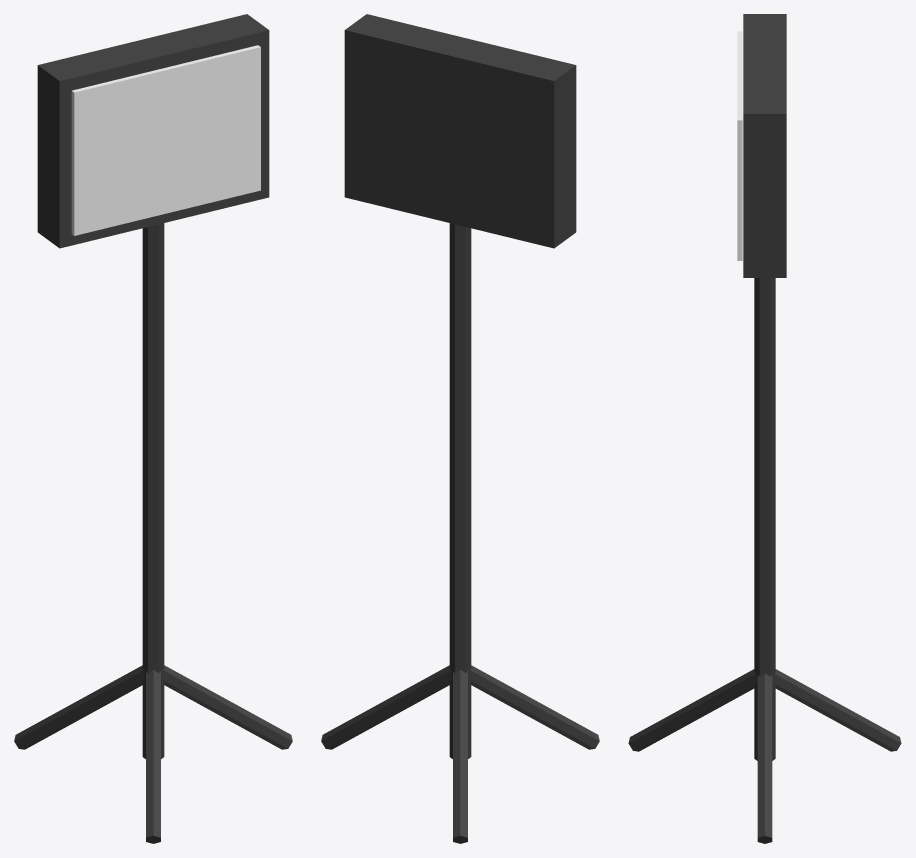
3 views of the same model, side by side, from view 1: azimuth 30°, elevation 25°; view 2: azimuth 150°, elevation 25°; view 3: azimuth 270°, elevation 25° (orthographic). The views are drawn at different scales.
Visible parts, largest first — view 1: Diffuser, Light panel, Pole, Tripod leg, Tripod leg.001, Tripod leg.002; view 2: Light panel, Pole, Tripod leg, Tripod leg.002, Tripod leg.001; view 3: Light panel, Pole, Tripod leg, Tripod leg.001, Tripod leg.002, Diffuser.
Boxes of the visible parts, <box> form: Diffuser: <box>71,45,260,235</box>; Light panel: <box>37,14,269,248</box>; Pole: <box>142,223,164,758</box>; Tripod leg: <box>162,665,292,749</box>; Tripod leg.001: <box>14,665,144,749</box>; Tripod leg.002: <box>146,670,160,843</box>; Light panel: <box>344,14,576,248</box>; Pole: <box>449,223,471,758</box>; Tripod leg: <box>321,665,451,749</box>; Tripod leg.002: <box>469,665,599,749</box>; Tripod leg.001: <box>453,670,467,843</box>; Light panel: <box>743,14,786,277</box>; Pole: <box>754,278,775,760</box>; Tripod leg: <box>757,673,772,843</box>; Tripod leg.001: <box>773,669,901,751</box>; Tripod leg.002: <box>628,669,756,751</box>; Diffuser: <box>737,31,742,260</box>.
Size of the model in its own units: 0.6371 by 1.84 by 0.634.
1 material, 1 textured.
